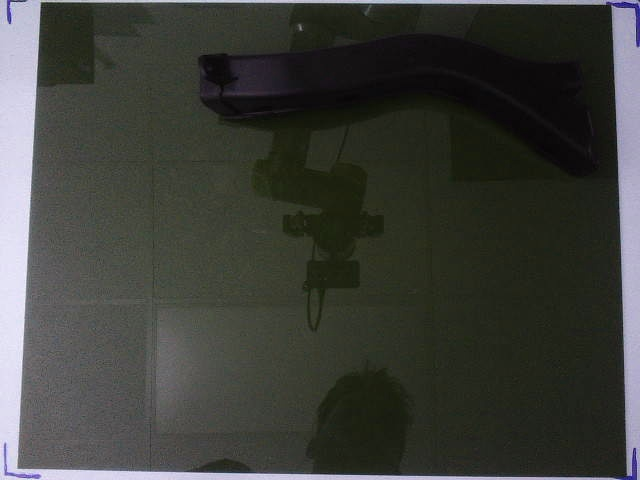887_B-Top: (197, 32, 601, 173)
